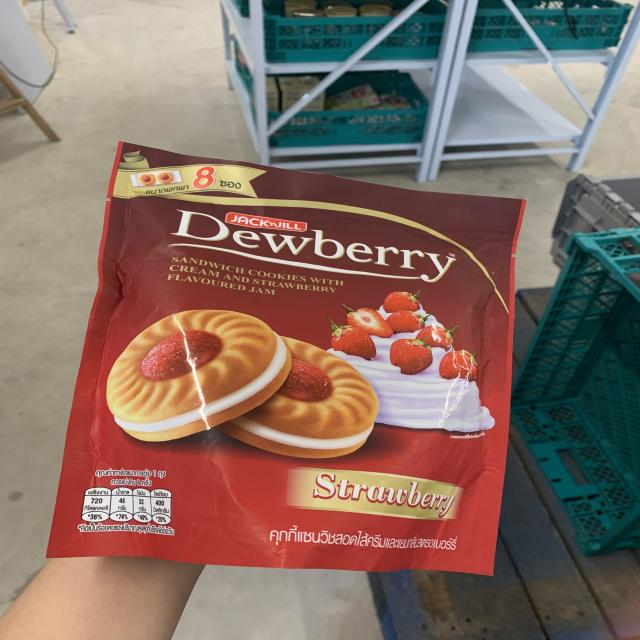object_name: (55, 165, 483, 560)
